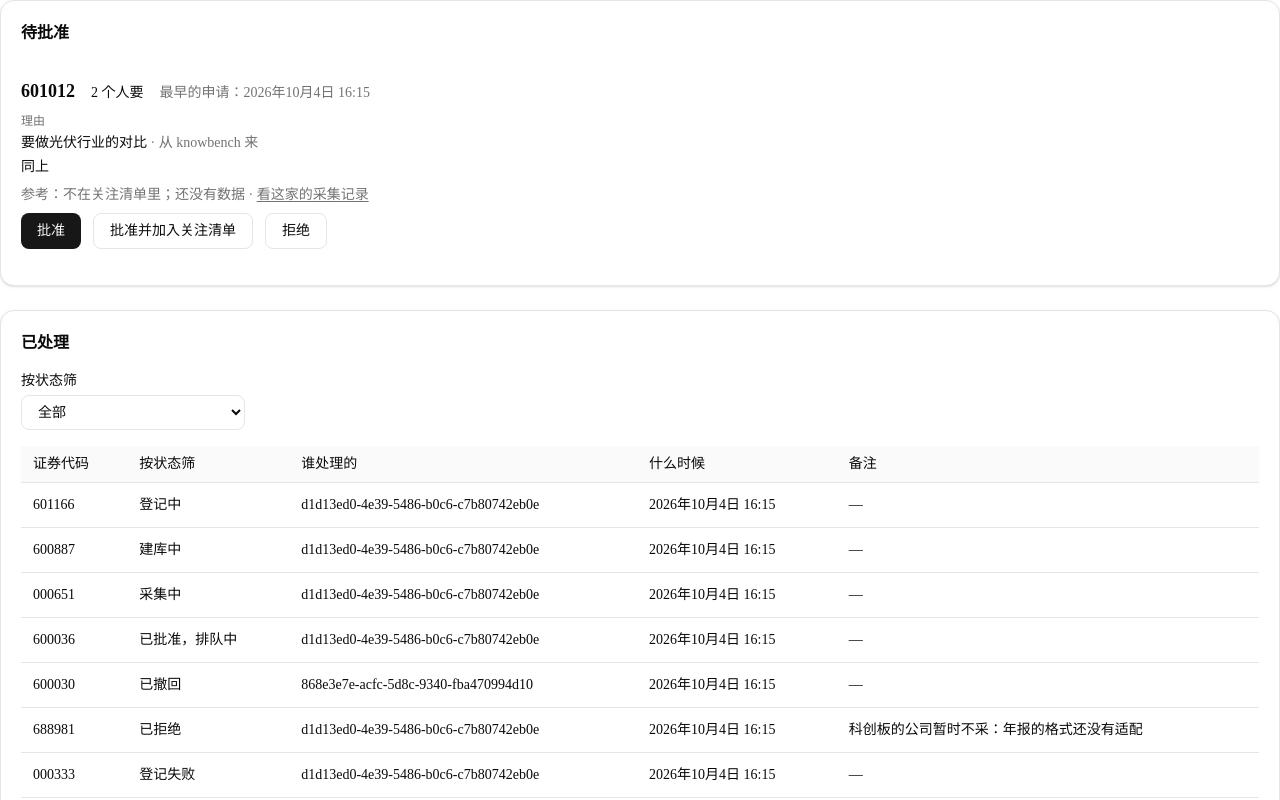
Test case: 申请审批 › 批准并加入关注清单：带着这个选项和 CSRF
Click the button "批准并加入关注清单".
click(173, 231)  # box [93,213,253,249]
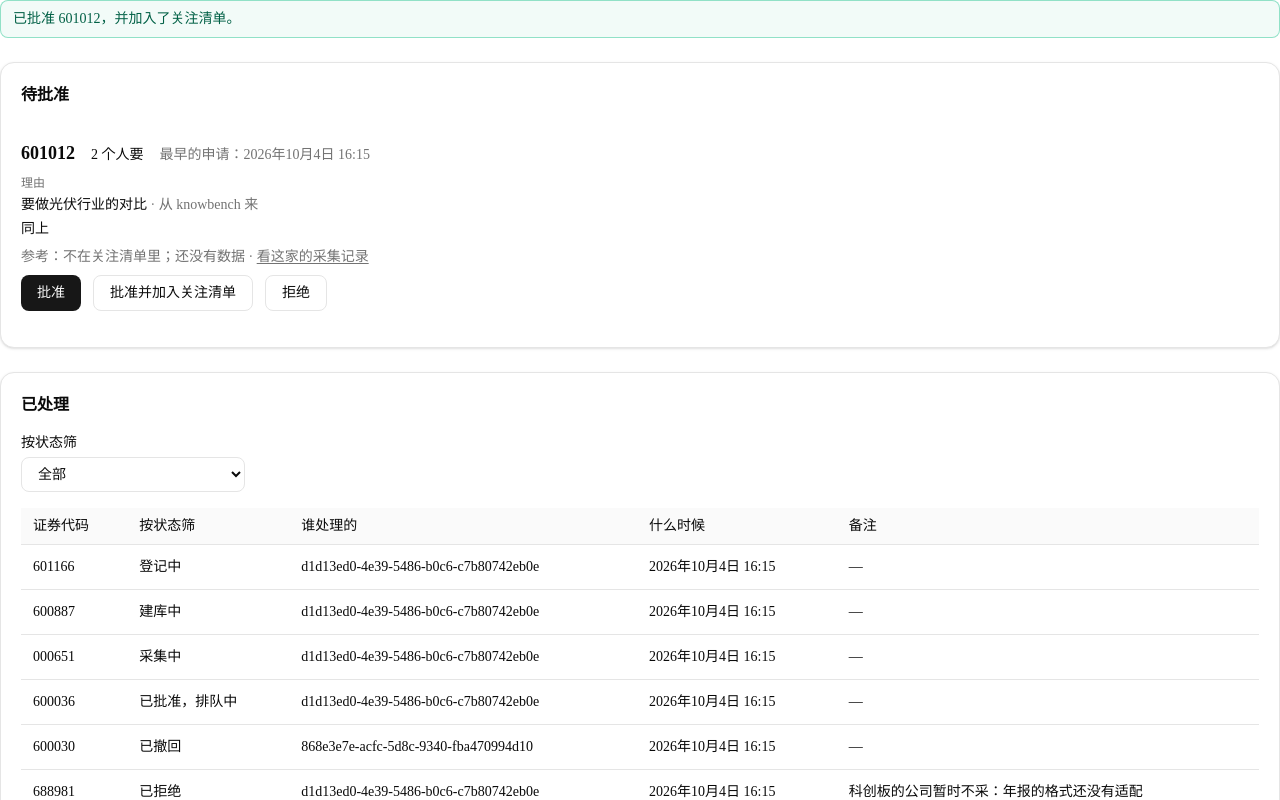
Expected: the message reads "已批准 601012，并加入了关注清单。", [13,11,240,26]
